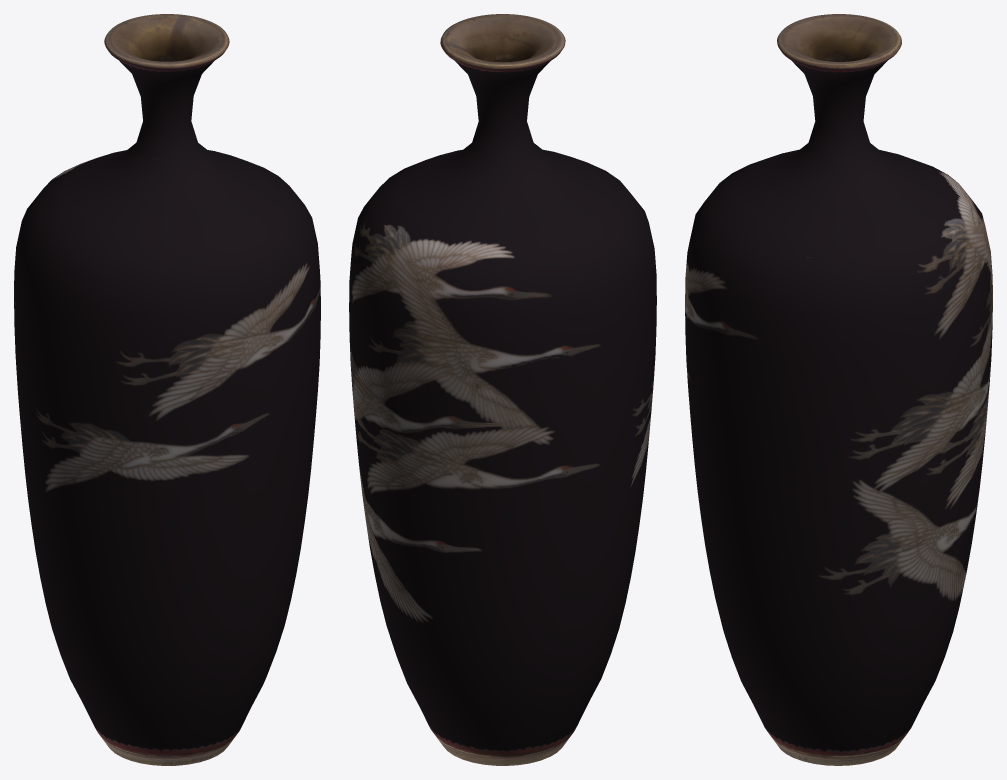
The model's file is jar2.fbx.
3 renders of one model, left to right at view 1: azimuth 30°, elevation 25°; view 2: azimuth 150°, elevation 25°; view 3: azimuth 270°, elevation 25°, orthographic.
Visible parts, largest first — view 1: LP; view 2: LP; view 3: LP.
Boxes of the visible parts, x1,y1,x2,y2 form: LP: (14, 14, 320, 765); LP: (349, 14, 656, 765); LP: (685, 14, 992, 765).
Bounding box in the file's own units: 56.56 × 142 × 56.56.
